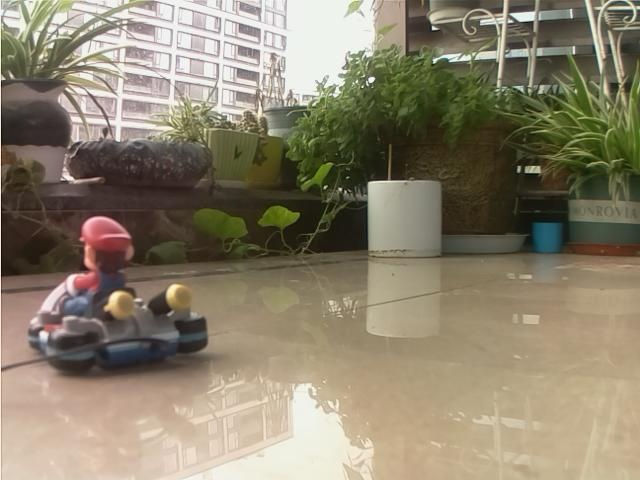mario: (23, 205, 224, 386)
